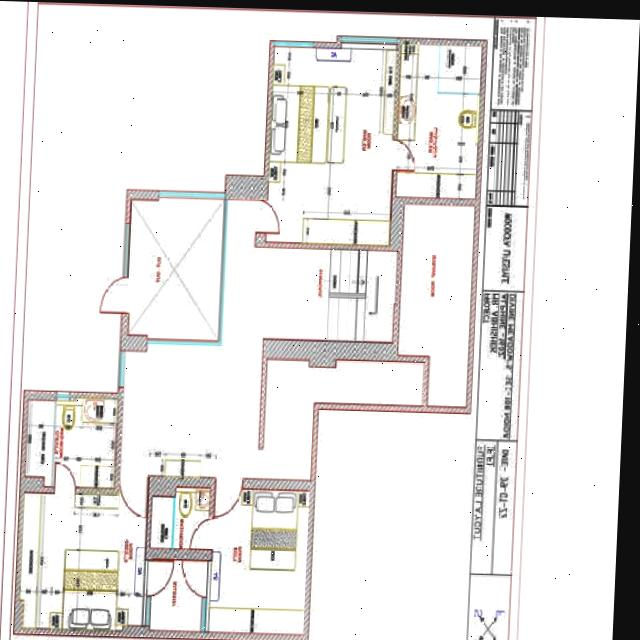room: (268, 46, 397, 247), (261, 358, 424, 482), (18, 491, 148, 629), (396, 201, 475, 407), (136, 350, 257, 479), (208, 488, 309, 633), (126, 198, 223, 336), (397, 43, 481, 196), (24, 398, 116, 487), (147, 558, 207, 631), (151, 487, 210, 550)
